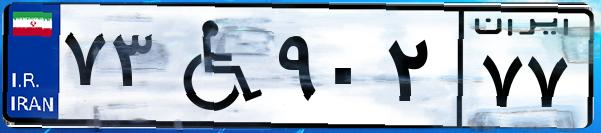0: (330, 28, 385, 110)
2: (385, 28, 445, 110)
3: (110, 28, 158, 98)
7: (57, 26, 110, 100), (475, 38, 525, 113), (525, 38, 570, 115)
9: (270, 28, 330, 110)
ژ (معلولین و جانبازان): (158, 12, 270, 120)
